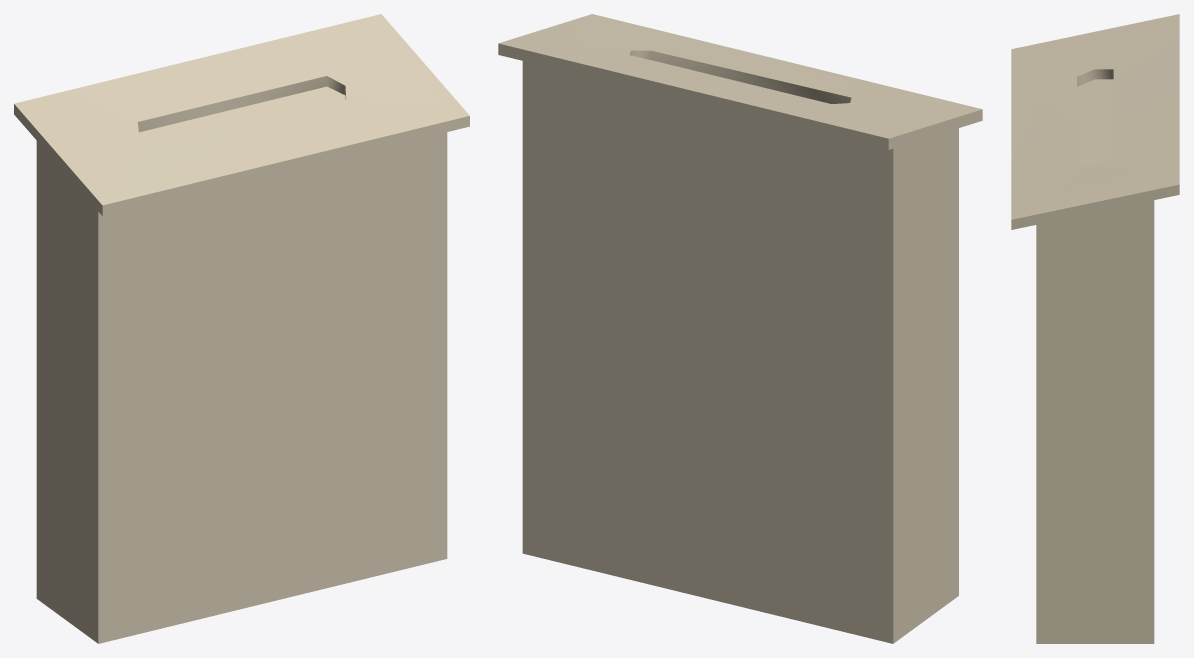
The model's file is Electric_Box_D_Snaps004.FBX.
3 renders of one model, left to right at view 1: azimuth 30°, elevation 25°; view 2: azimuth 150°, elevation 25°; view 3: azimuth 270°, elevation 25°, orthographic. The views are drawn at different scales.
Parts seen in each view (by area): view 1: Geometry_Electric_Box_D_LOD00; view 2: Geometry_Electric_Box_D_LOD00; view 3: Geometry_Electric_Box_D_LOD00.
Part boxes in pixels (x1,y1,x2,y2): Geometry_Electric_Box_D_LOD00: (14, 14, 469, 643); Geometry_Electric_Box_D_LOD00: (498, 14, 982, 643); Geometry_Electric_Box_D_LOD00: (1011, 14, 1179, 643).
Size of what is drawn, in the model's own units: 61.82 by 78.36 by 25.79.
